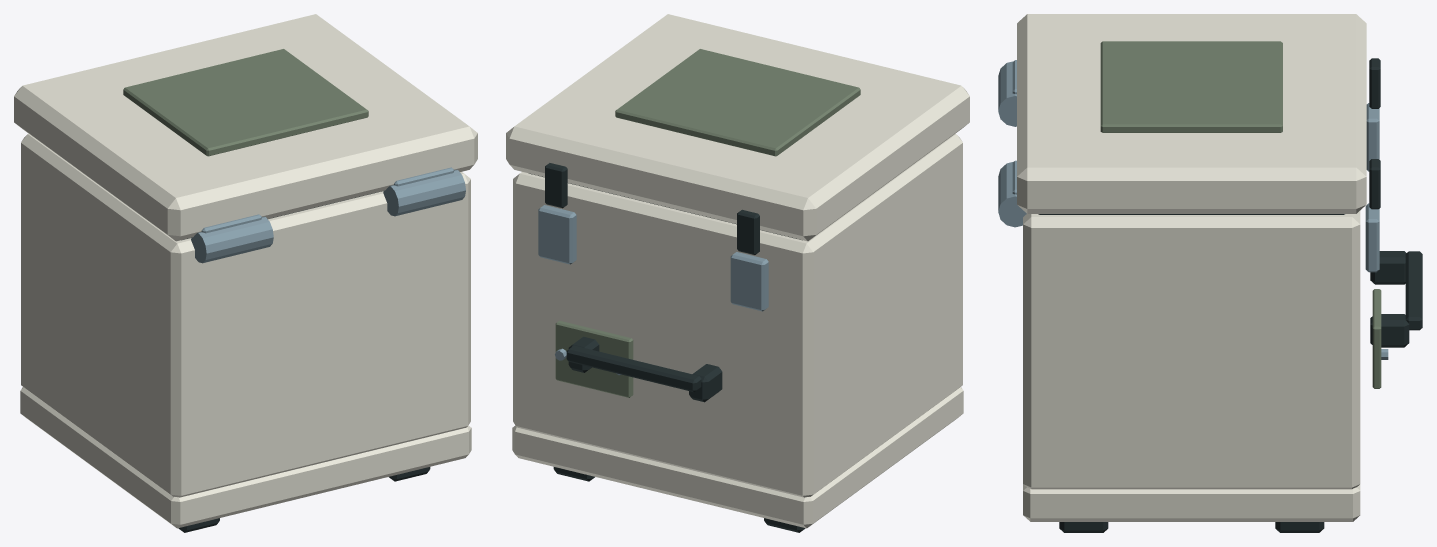
The model's file is pantry_ingredient_bin.glb.
3 renders of one model, left to right at view 1: azimuth 30°, elevation 25°; view 2: azimuth 150°, elevation 25°; view 3: azimuth 270°, elevation 25°, orthographic. The views are drawn at different scales.
Parts seen in each view (by area): view 1: body_back_wall, body_side_wall (×2), moving_lid, moving_lid_identity, body_floor, body_hinge (×2), body_front_wall; view 2: body_front_wall, body_side_wall (×2), moving_lid, moving_lid_identity, body_floor, latch_base (×2), ingredient_code_plate, body_back_wall, front_carry_grip, moving_latch_hook (×2), front_carry_mount; view 3: body_side_wall, moving_lid, moving_lid_identity, body_floor, body_front_wall, body_back_wall, body_hinge (×2), front_carry_mount (×2), latch_base (×2), front_carry_grip, moving_latch_hook (×2), rubber_support (×2) (+1 smaller).
Boxes of the visible parts, x1,y1,x2,y2 form: body_back_wall: (159, 172, 468, 496); body_side_wall (×2): (21, 133, 470, 497); moving_lid: (14, 14, 477, 241); moving_lid_identity: (123, 49, 368, 156); body_floor: (20, 387, 471, 528); body_hinge (×2): (191, 169, 465, 263); body_front_wall: (21, 134, 39, 394); body_front_wall: (515, 172, 824, 497); body_side_wall (×2): (513, 133, 962, 497); moving_lid: (506, 14, 969, 241); moving_lid_identity: (615, 49, 860, 156); body_floor: (512, 387, 963, 528); latch_base (×2): (538, 205, 768, 311); ingredient_code_plate: (555, 320, 633, 397); body_back_wall: (944, 134, 962, 394); front_carry_grip: (566, 345, 701, 391); moving_latch_hook (×2): (545, 163, 759, 254); front_carry_mount: (689, 364, 722, 402); body_side_wall: (1023, 212, 1360, 489); moving_lid: (1017, 14, 1366, 213); moving_lid_identity: (1100, 41, 1282, 132); body_floor: (1023, 484, 1360, 521); body_front_wall: (1327, 211, 1360, 489); body_back_wall: (1023, 214, 1056, 489); body_hinge (×2): (998, 61, 1026, 227); front_carry_mount (×2): (1370, 251, 1409, 347); latch_base (×2): (1365, 103, 1379, 272); front_carry_grip: (1405, 251, 1422, 330); moving_latch_hook (×2): (1369, 58, 1380, 209); rubber_support (×2): (1059, 522, 1324, 532).
Size of the model in its own units: 0.785 by 0.8735 by 0.8685.
